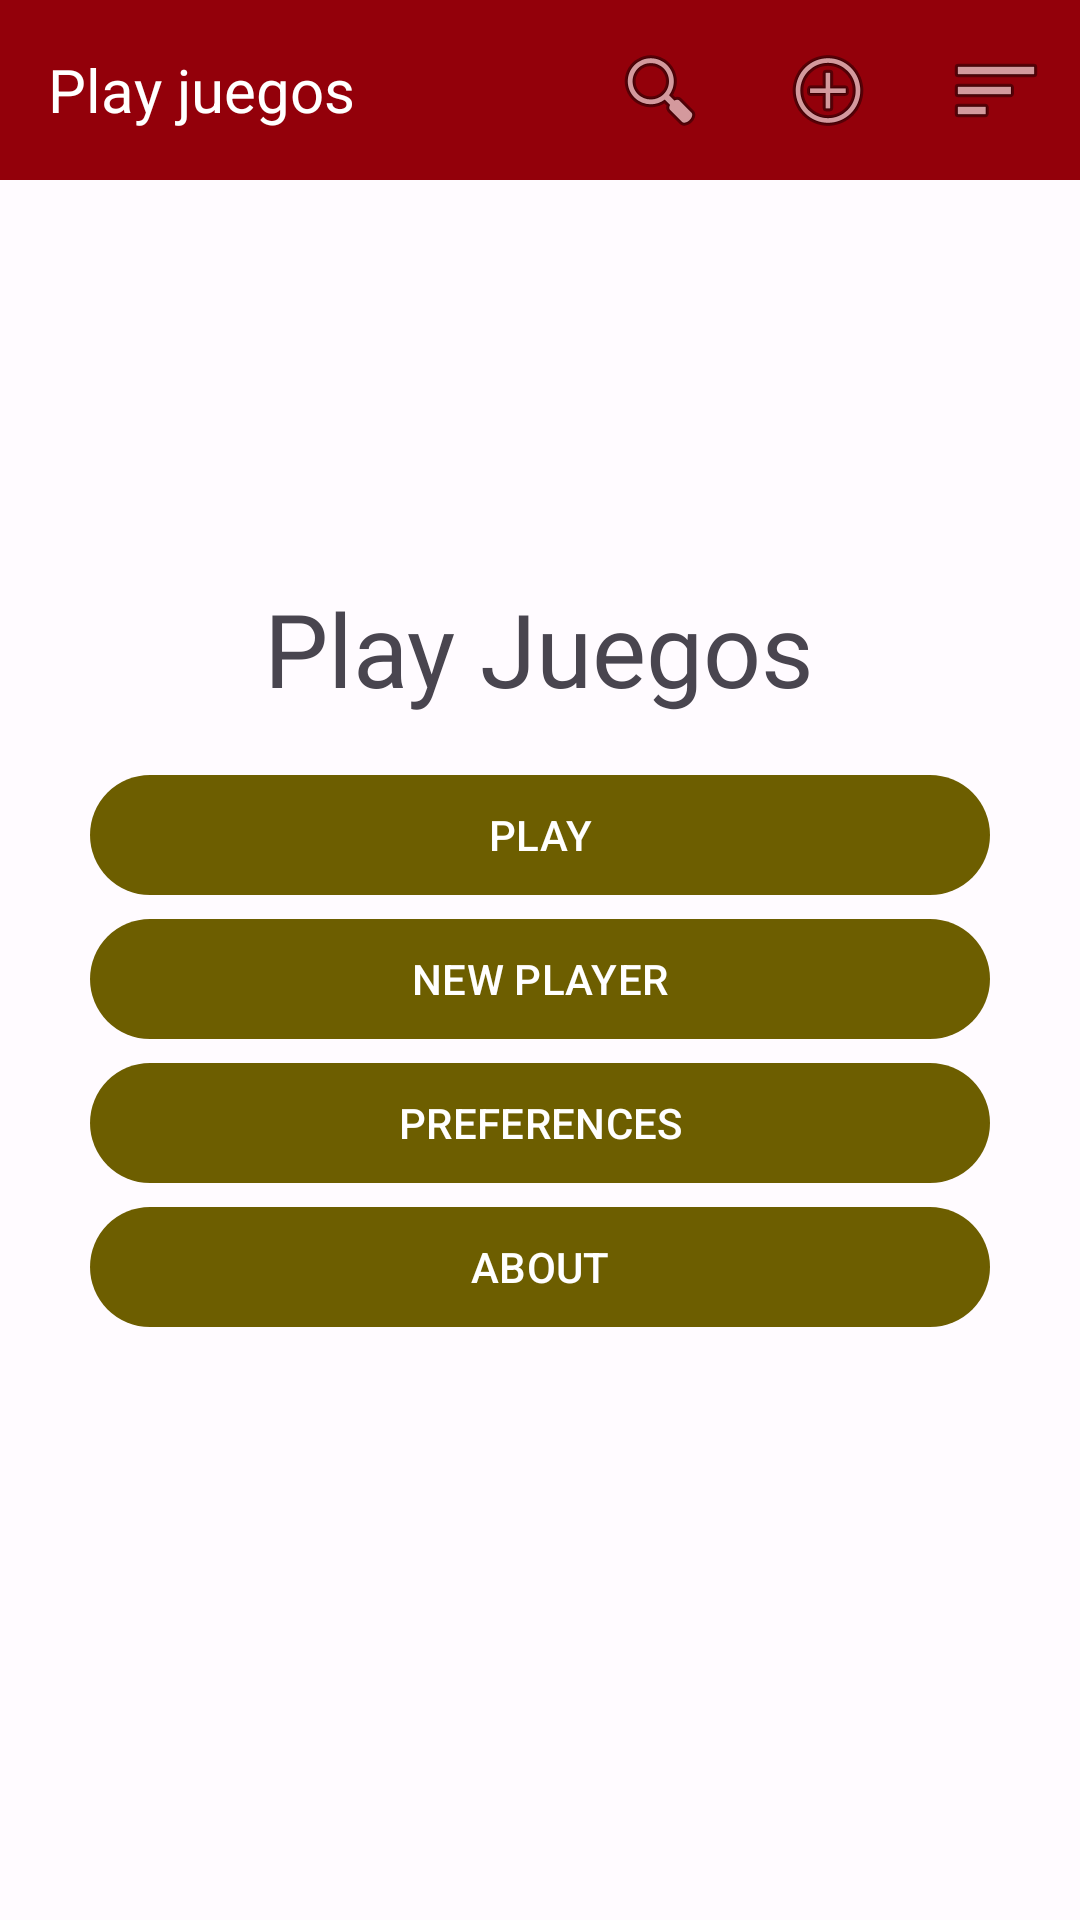

Locate icon controls on the screen. Image size 1080 x 1920, boxes as (x1,y1,x2,y2).
add: (793,55,863,126)
search: (625,55,695,126)
sort by size: (955,64,1037,117)
